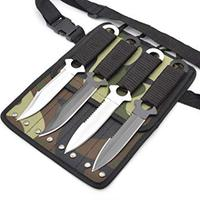knife: (14, 21, 178, 177)
